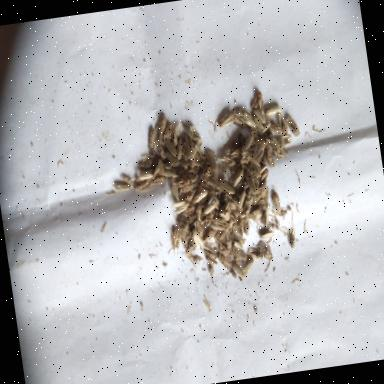pbw: (250, 179, 270, 204), (183, 122, 202, 148), (256, 237, 274, 262), (284, 112, 301, 138), (198, 178, 219, 198), (249, 202, 270, 222), (168, 226, 182, 256), (172, 170, 199, 185), (204, 148, 219, 174), (154, 132, 167, 162), (217, 177, 237, 196), (182, 133, 196, 159), (180, 184, 200, 202), (238, 256, 256, 276), (264, 116, 282, 136), (239, 134, 255, 156), (230, 166, 246, 188), (146, 127, 159, 154), (183, 250, 200, 270), (232, 110, 247, 132), (149, 158, 164, 180), (172, 196, 191, 213), (168, 122, 182, 144), (138, 153, 156, 170), (216, 111, 235, 127), (244, 151, 260, 170), (191, 187, 210, 203), (216, 153, 236, 168), (191, 226, 204, 249), (216, 251, 232, 269), (250, 106, 266, 124), (178, 222, 191, 244), (164, 136, 178, 156), (286, 225, 298, 248), (277, 113, 290, 134), (120, 170, 135, 188), (165, 149, 179, 168), (216, 236, 230, 255), (243, 110, 256, 130), (242, 196, 255, 216), (236, 188, 249, 208), (170, 178, 180, 204), (264, 103, 282, 117), (157, 115, 169, 136), (246, 246, 264, 260), (133, 178, 151, 192), (272, 190, 282, 215), (137, 168, 156, 181), (222, 226, 232, 250), (262, 204, 272, 228), (201, 200, 218, 214), (149, 172, 166, 186), (113, 178, 131, 191), (180, 180, 198, 193), (161, 122, 174, 140), (255, 89, 265, 112), (174, 138, 184, 161), (231, 260, 243, 279), (158, 167, 177, 179), (234, 104, 250, 118), (254, 140, 268, 156), (253, 114, 264, 134), (202, 246, 217, 260), (202, 238, 215, 254), (257, 167, 270, 183), (276, 134, 293, 146), (258, 228, 275, 240), (239, 216, 249, 236), (266, 146, 276, 166), (204, 254, 218, 268), (220, 200, 232, 216), (229, 146, 243, 159), (226, 214, 238, 229), (210, 221, 226, 232), (194, 204, 203, 222), (189, 154, 196, 170), (234, 239, 243, 250), (233, 228, 242, 239), (260, 163, 268, 173), (193, 254, 203, 262)
